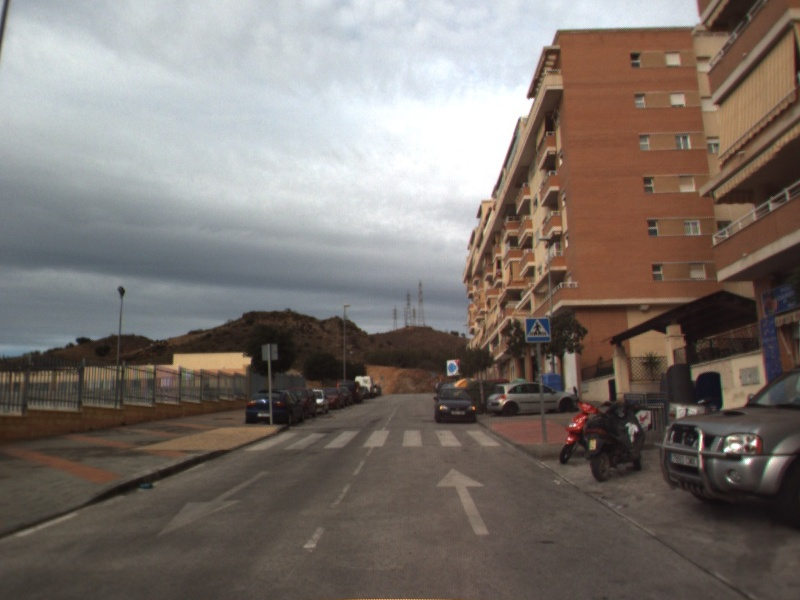STRAIGHT: (434, 465, 492, 537)
